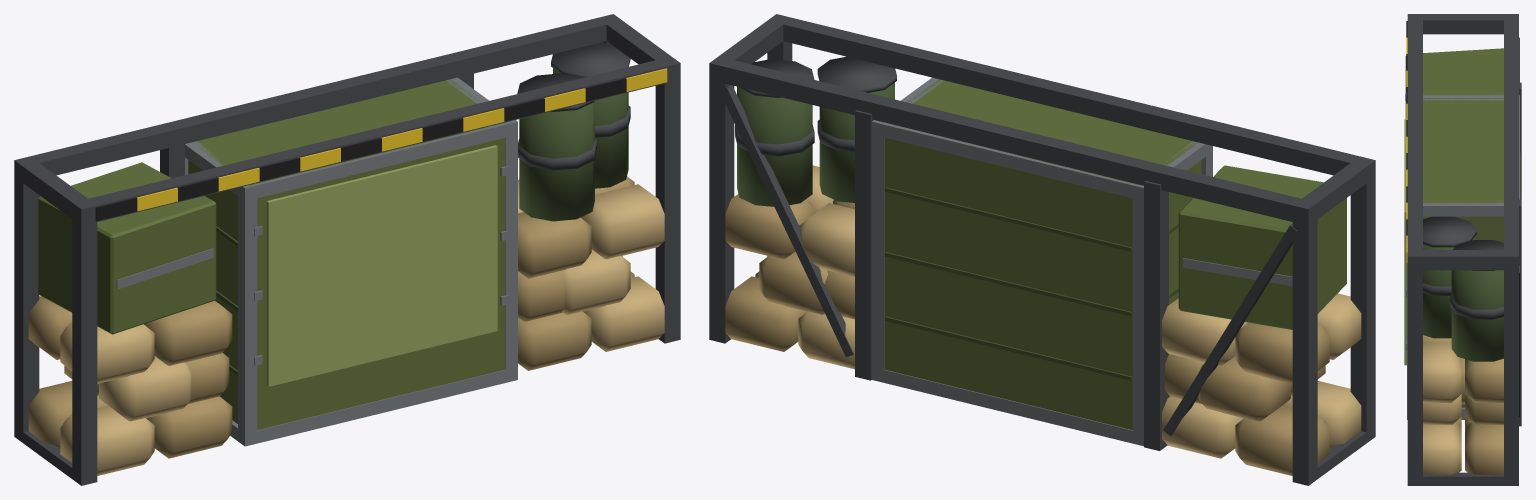
Rendered from gate.glb.
3 views of the same model, side by side, from view 1: azimuth 30°, elevation 25°; view 2: azimuth 150°, elevation 25°; view 3: azimuth 270°, elevation 25° (orthographic). The views are drawn at different scales.
Visible parts, largest first — view 1: Gate; view 2: Gate; view 3: Gate.
Boxes of the visible parts, box(x1,y1,x2,y2) form: Gate: box(14, 14, 680, 485); Gate: box(709, 14, 1375, 485); Gate: box(1404, 14, 1521, 485).
Size of the model in its own units: 3.4 by 1.5 by 0.695.
